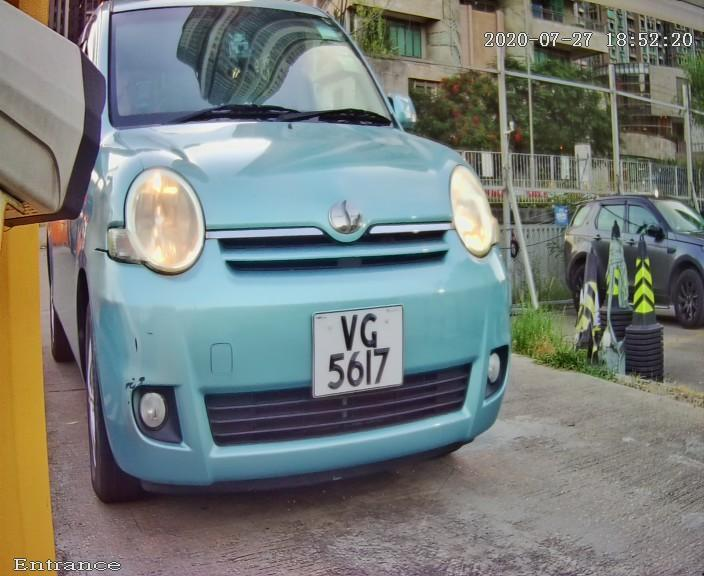privatecar: (29, 16, 554, 507)
